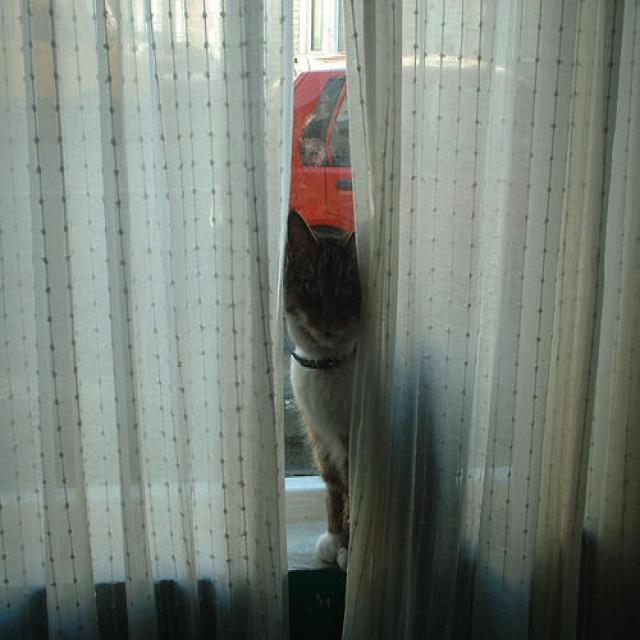Vehicle: (290, 70, 355, 238)
